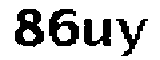6: (48, 6, 81, 51)
8: (13, 5, 44, 48)
u: (82, 16, 113, 49)
y: (114, 16, 147, 60)
